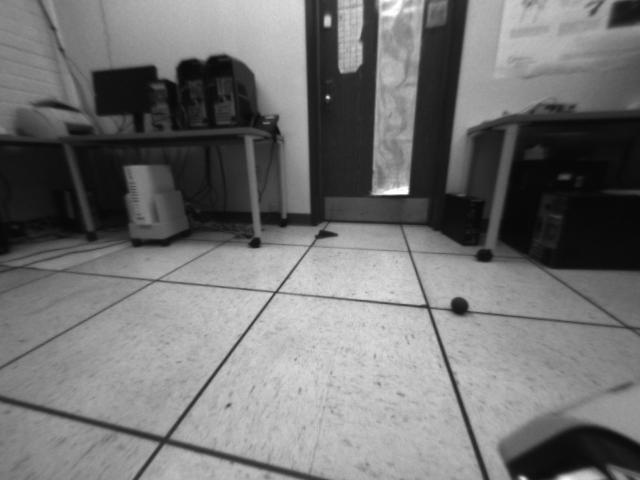dogtoy: (446, 288, 473, 323)
